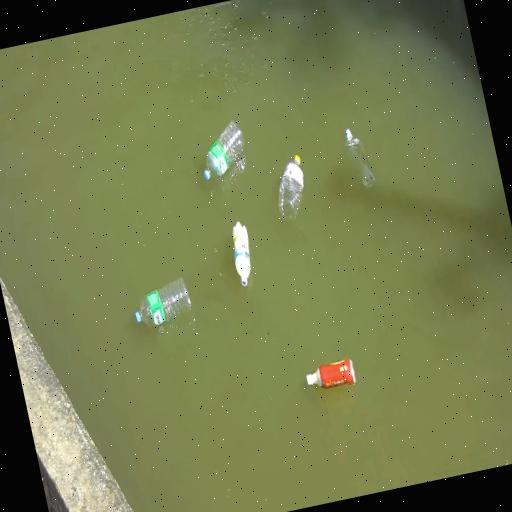plastic: (134, 278, 190, 326), (203, 122, 243, 180), (344, 129, 375, 187), (277, 155, 303, 220), (306, 359, 355, 388), (232, 222, 250, 287)
